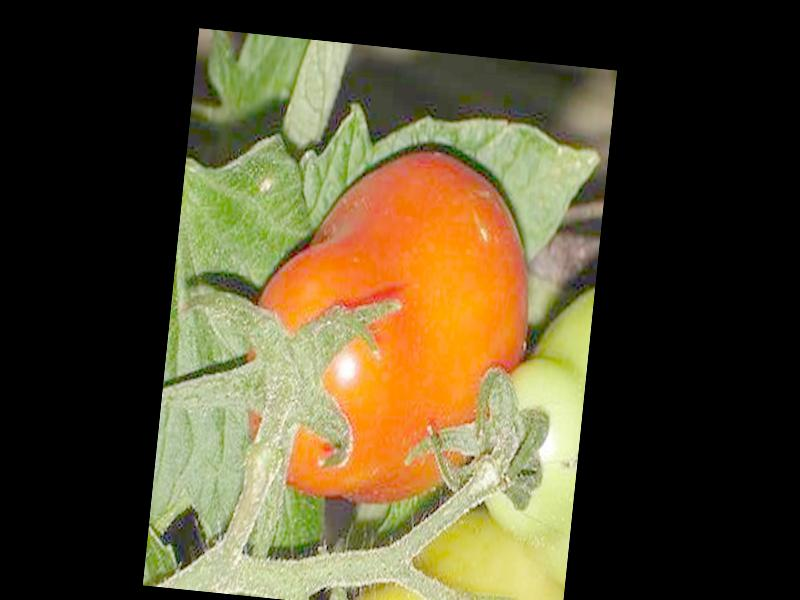Tomato: (235, 134, 542, 513)
